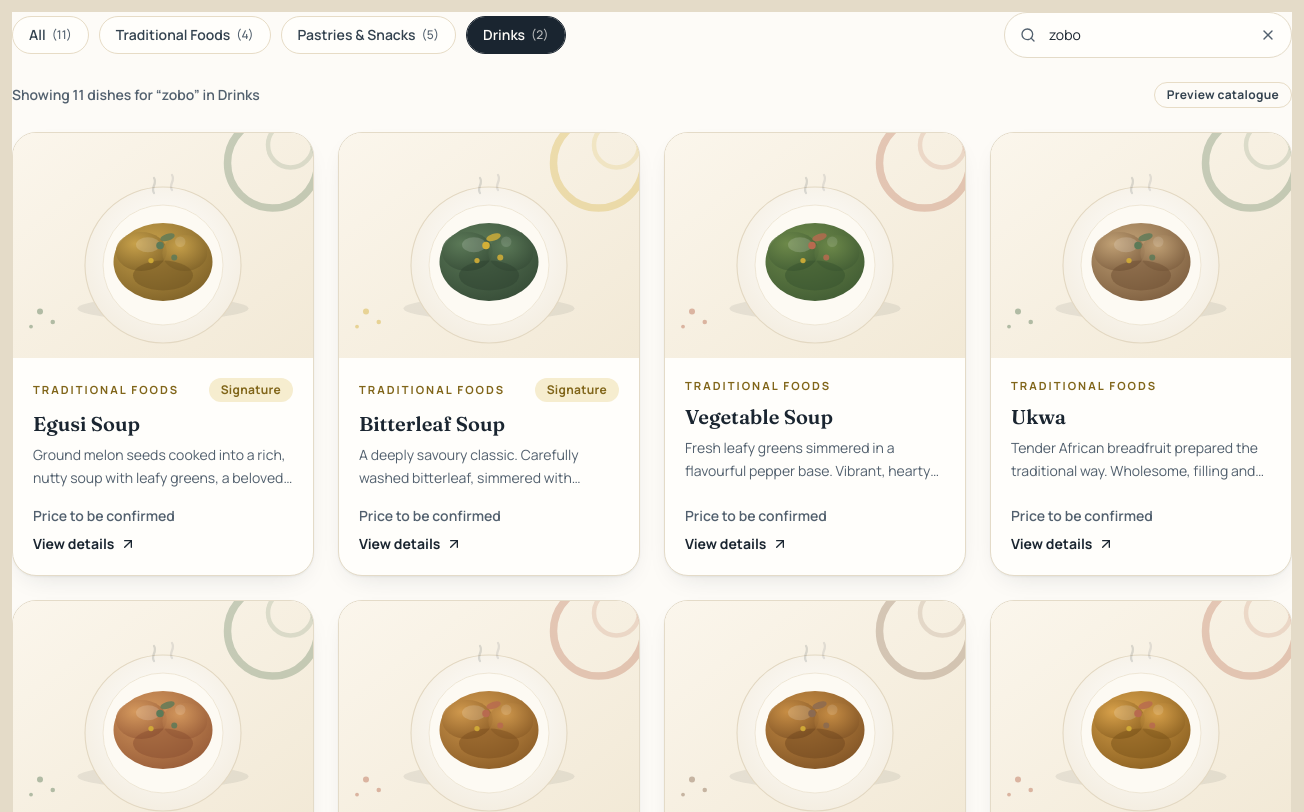
it: MenuExplorer search interaction (Phase 2B) › offers a clear control only while the input has text
Click the button named "Clear search" at [1268, 35], box x1=1252 y1=19 x2=1284 y2=51
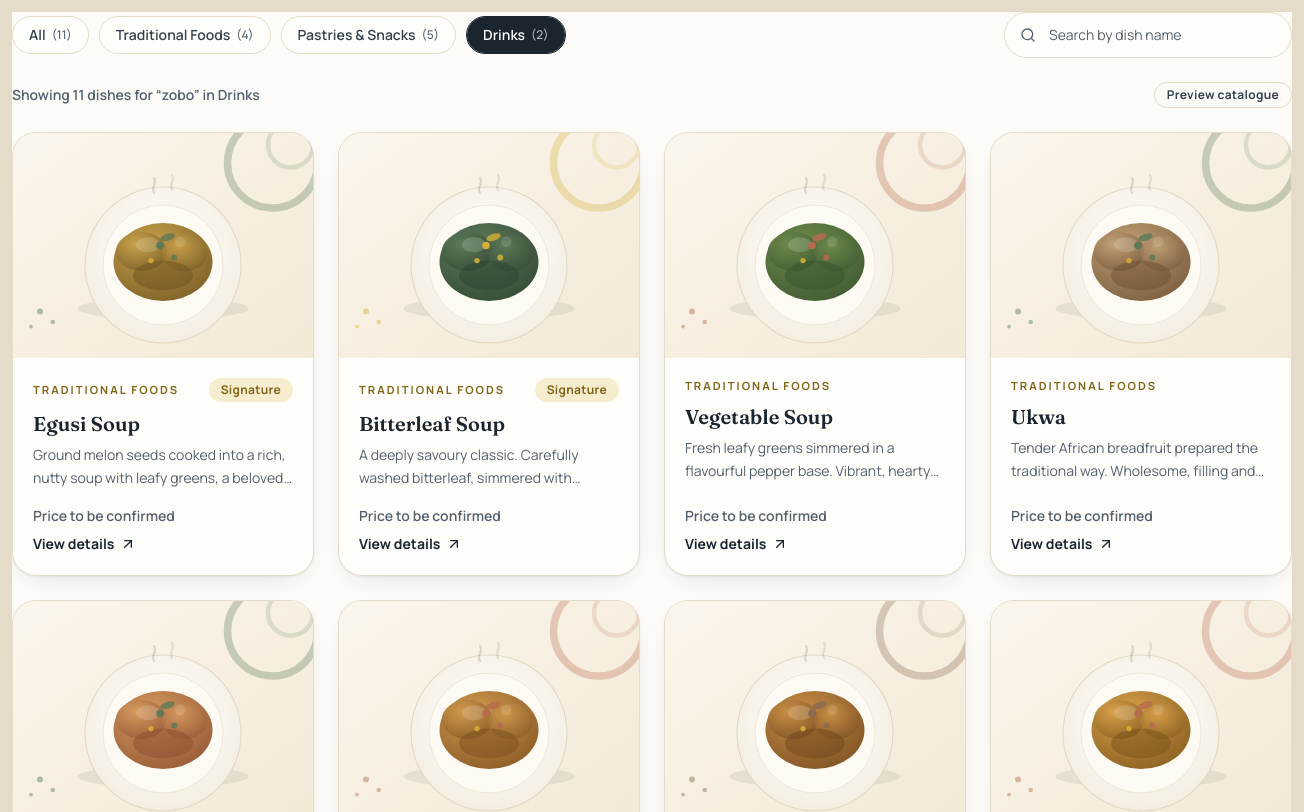
Expected: the search field is empty, x1=1004 y1=12 x2=1292 y2=58
